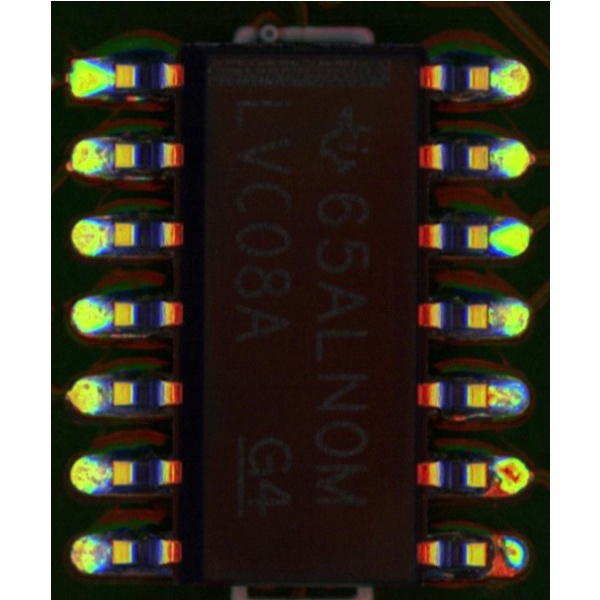Bad_podu: (478, 385, 500, 406)
